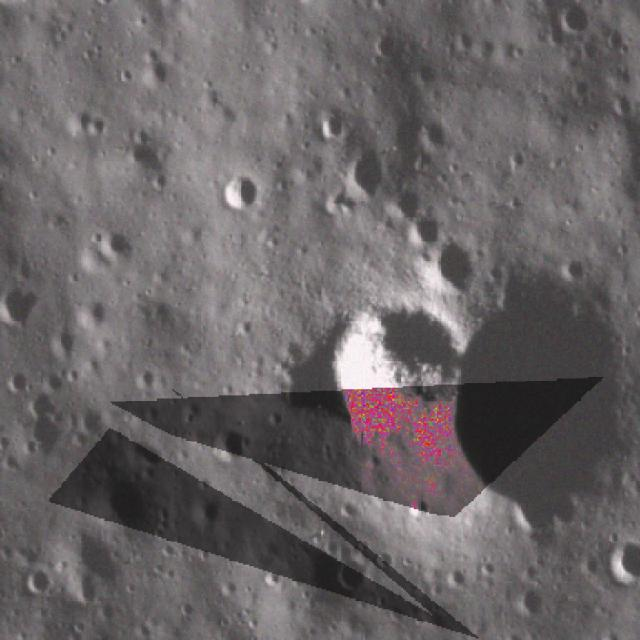crater: (454, 265, 635, 526), (308, 281, 466, 433), (92, 468, 156, 535), (332, 144, 392, 211), (423, 235, 486, 296), (213, 165, 267, 224), (206, 420, 256, 468), (598, 528, 637, 588), (92, 220, 139, 268), (0, 282, 42, 332), (553, 0, 604, 40), (401, 209, 445, 253), (327, 554, 368, 595), (512, 583, 546, 620), (368, 29, 402, 65), (21, 563, 53, 600), (437, 561, 471, 593), (4, 372, 30, 398)
